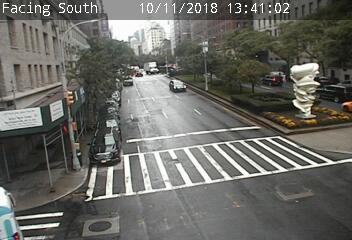car: (89, 127, 120, 165), (315, 85, 352, 102), (260, 75, 283, 86), (170, 80, 186, 92)
